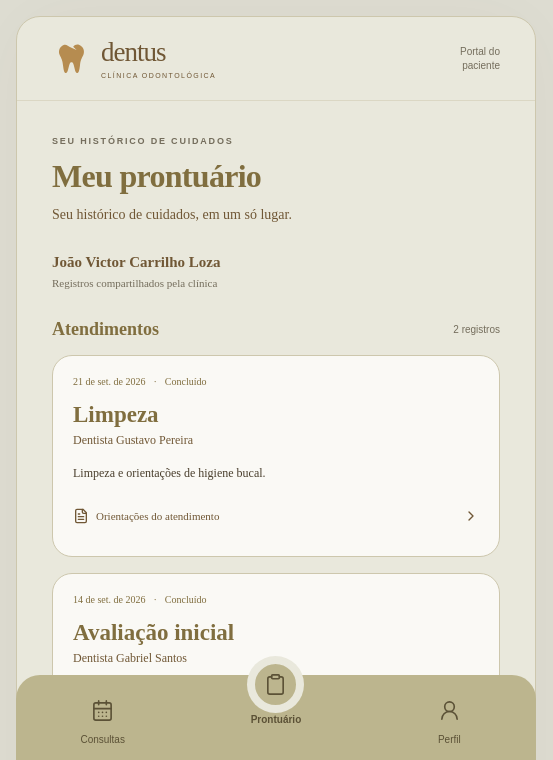
Test: abre detalhes do histórico
Click the link with aria-label "Orientações do atendimento: Limpeza". click: click(158, 516)
box: left=73, top=508, right=479, bottom=524
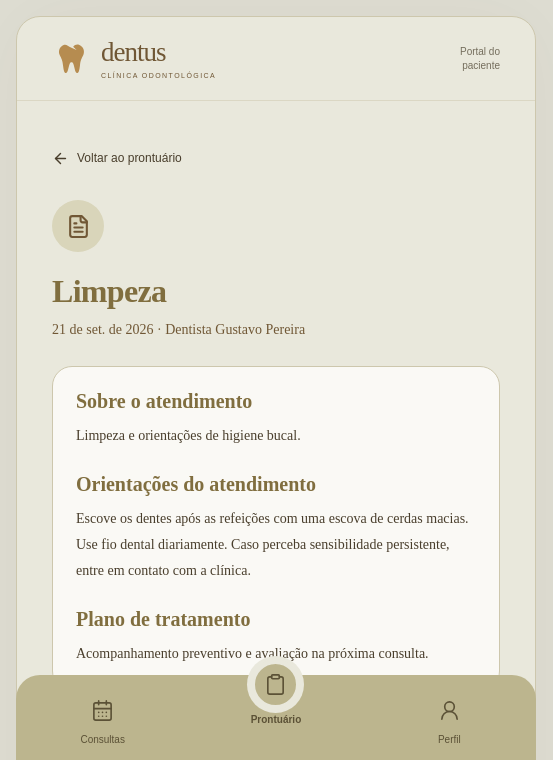
Result: the heading "Orientações do atendimento" is shown at left=76, top=473, right=316, bottom=495
Result: the text "cerdas macias" is shown at left=76, top=511, right=469, bottom=578
